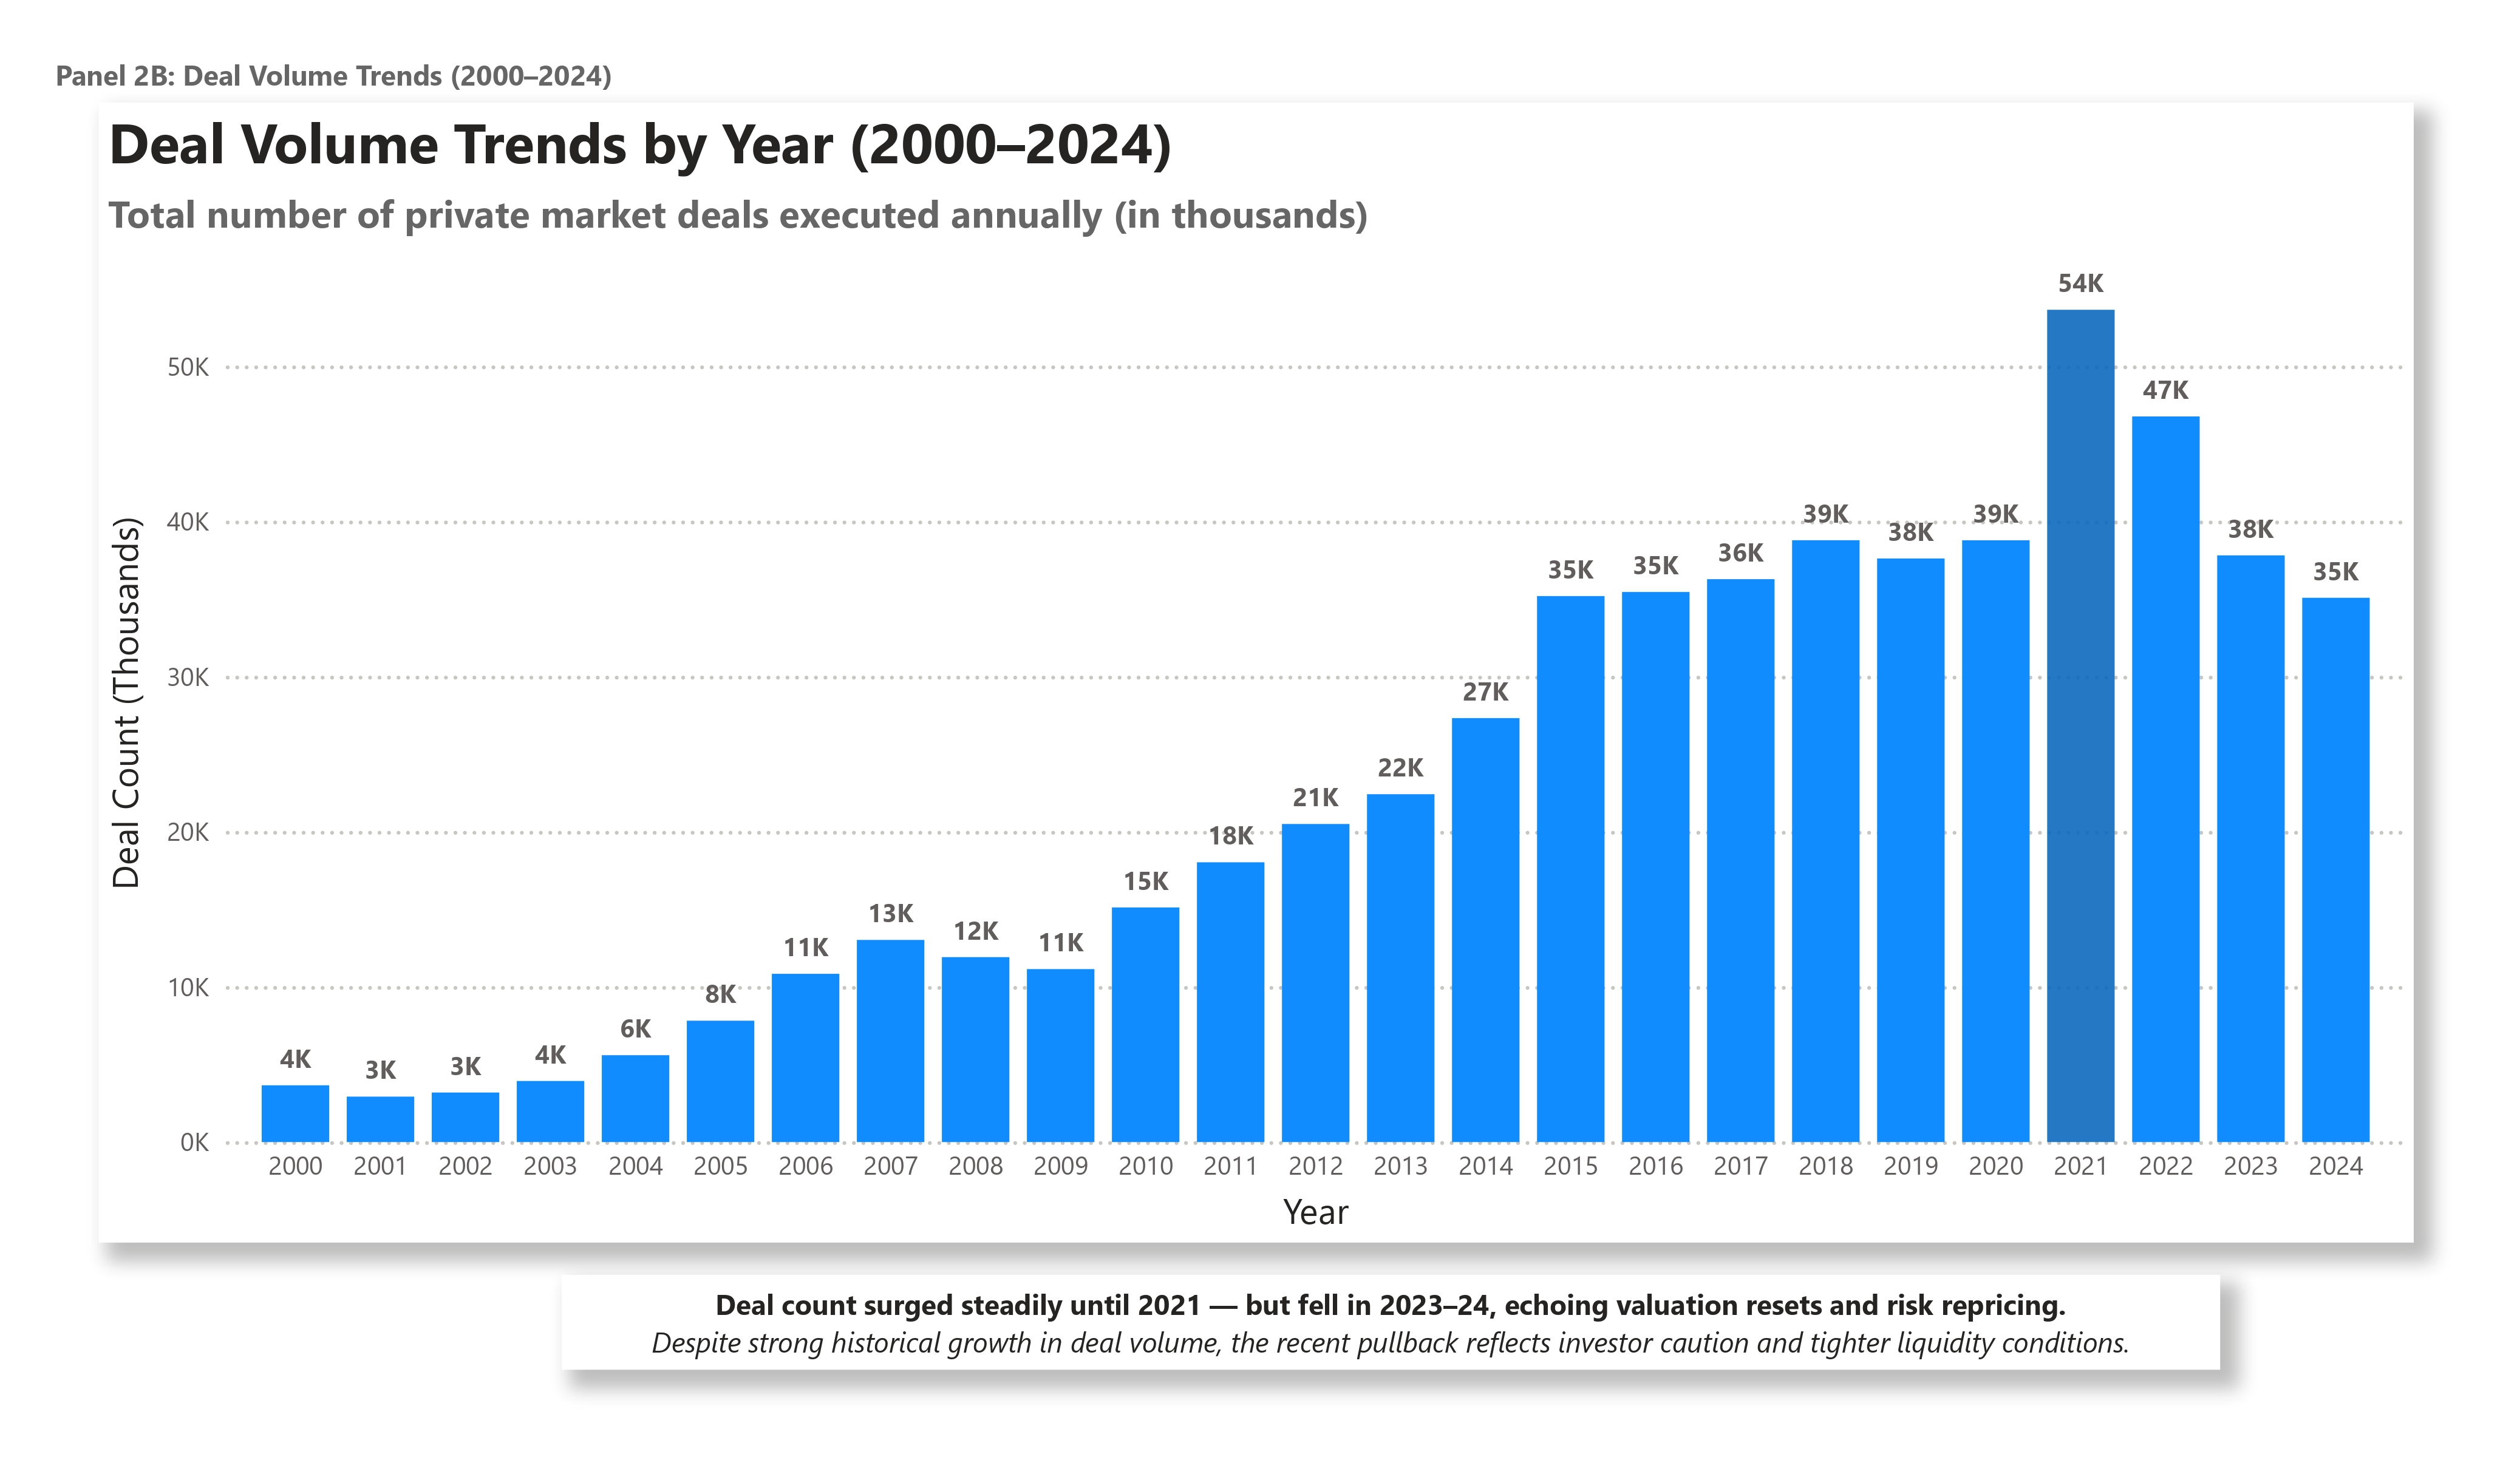

The dashboard page shown, as its layout file describes it:
{"tool":"powerbi","page":{"name":"panel-2b_deal-volume-trends_2000-2024","canvas":[1280,720],"ordinal":7},"visuals":[{"type":"clusteredColumnChart","title":"Deal Volume Trends by Year (2000–2024)","fields":{"Category":["Deals Chart.DATE"],"Y":["Sum(Deals Chart.NUMBER OF DEALS (aggregated))"]},"box":[27.5,30,1220,601.2],"z":0},{"type":"textbox","box":[272.2,647.8,873.3,50],"z":1000},{"type":"textbox","box":[0,0,425,30],"z":2000}]}

Visuals, with their boxes on the page's 1280x720 design canvas (x1, y1, x2, y2). These are canvas units, not pixel positions in the 2520x1457 screenshot, which may show the page scaled, cropped or inside an application window:
"Deal Volume Trends by Year (2000–2024)" clusteredColumnChart: box=[28, 30, 1248, 631]
textbox: box=[272, 648, 1146, 698]
textbox: box=[0, 0, 425, 30]
